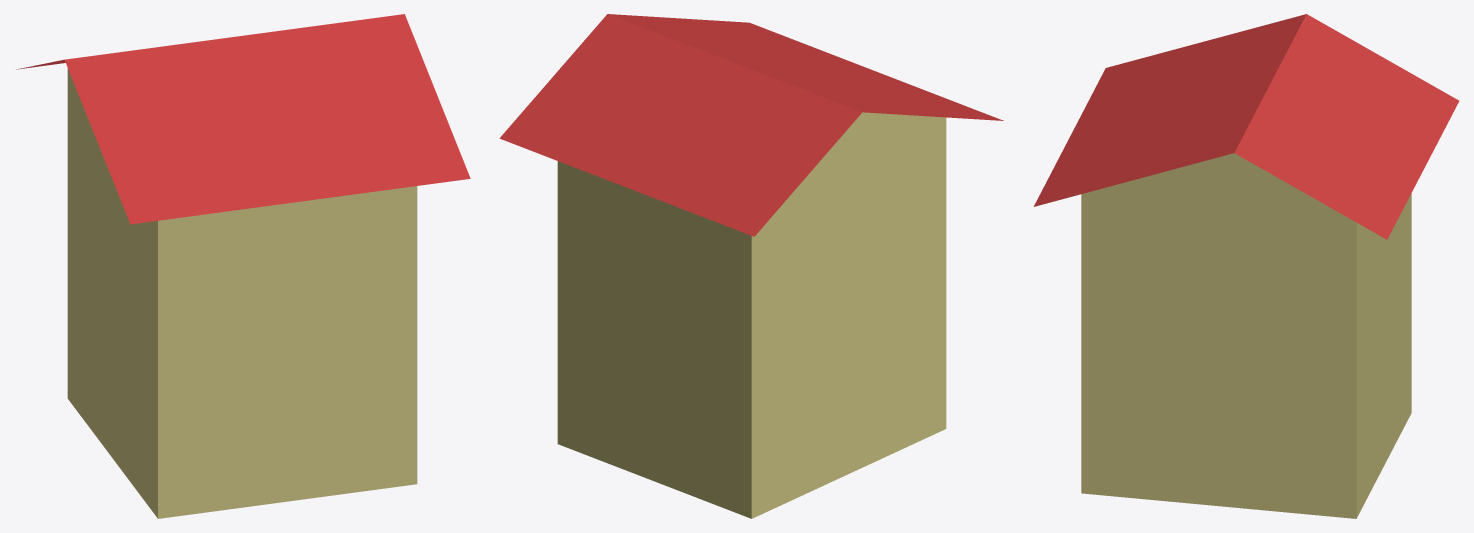
3 renders of one model, left to right at view 1: azimuth 30°, elevation 25°; view 2: azimuth 150°, elevation 25°; view 3: azimuth 270°, elevation 25°, orthographic. The views are drawn at different scales.
Bounding box in the file's own units: 7.58 × 7.94 × 7.65.
